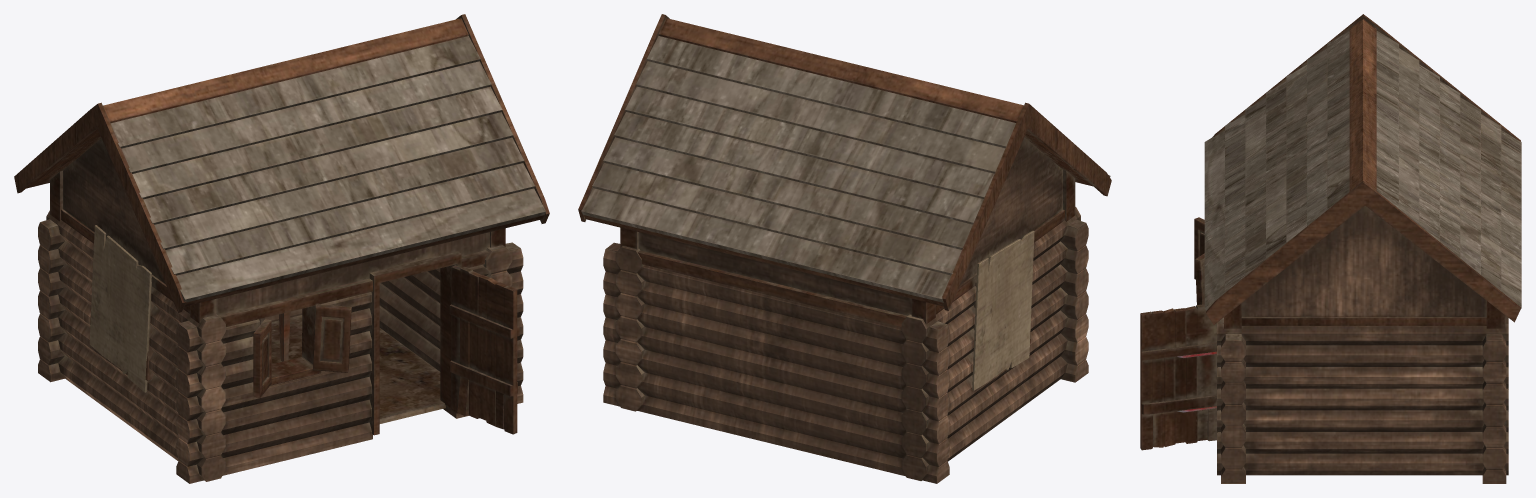
Rendered from platform2.glb.
3 views of the same model, side by side, from view 1: azimuth 30°, elevation 25°; view 2: azimuth 150°, elevation 25°; view 3: azimuth 270°, elevation 25° (orthographic). The views are drawn at different scales.
Visible parts, largest first — view 1: Loww_Poly_house2:Mesh; view 2: Loww_Poly_house2:Mesh; view 3: Loww_Poly_house2:Mesh.
Part boxes in pixels (left/top/right/bottom): Loww_Poly_house2:Mesh: left=14, top=14, right=549, bottom=483; Loww_Poly_house2:Mesh: left=578, top=14, right=1111, bottom=483; Loww_Poly_house2:Mesh: left=1140, top=14, right=1521, bottom=483.
Bounding box in the file's own units: 0.0499 × 0.0425 × 0.0476.
1 material, 1 textured.
